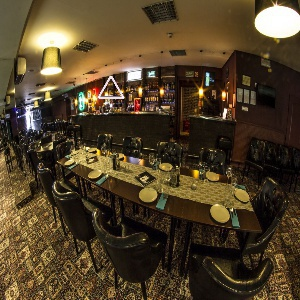triangle: (96, 74, 126, 101)
